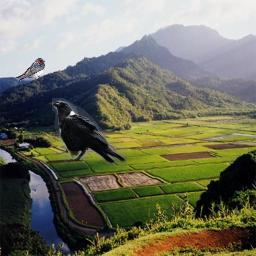Crow: (52, 98, 127, 166)
Swallow: (16, 58, 45, 81)
